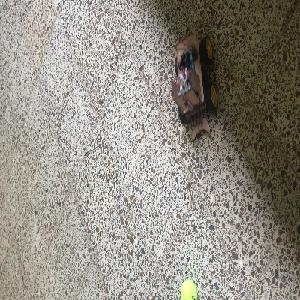Ball: (181, 279, 196, 299)
Robot: (172, 29, 217, 136)
